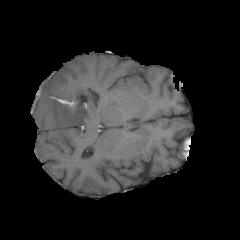glioma: (30, 74, 101, 131)
